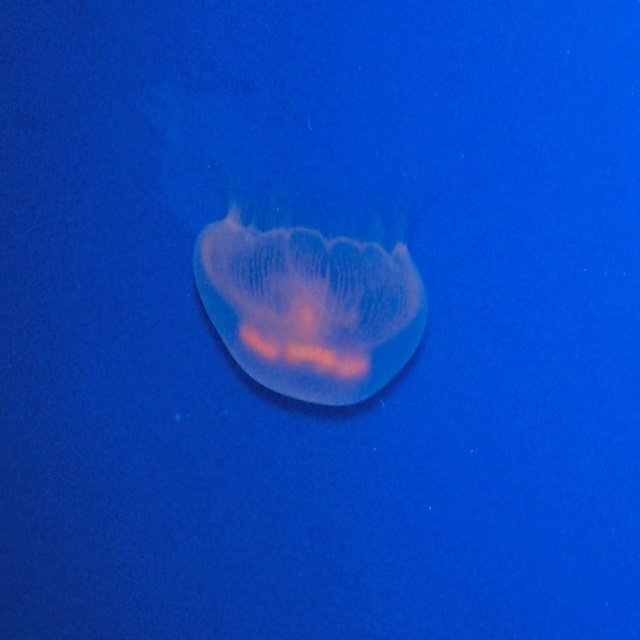Jellyfish: (190, 193, 425, 408)
